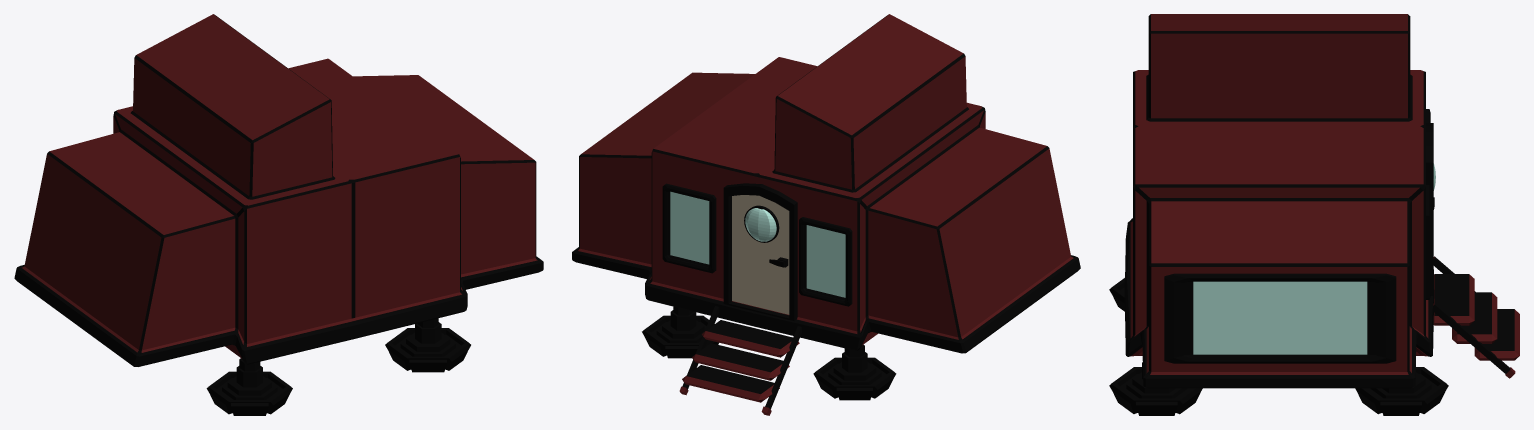
The model's file is House.fbx.
The picture shows the model from 3 angles, left to right: view 1: azimuth 30°, elevation 25°; view 2: azimuth 150°, elevation 25°; view 3: azimuth 270°, elevation 25°; orthographic projection. The views are drawn at different scales.
Parts seen in each view (by area): view 1: House; view 2: House; view 3: House.
Boxes of the visible parts, x1,y1,x2,y2 form: House: (14, 14, 543, 415); House: (572, 14, 1080, 415); House: (1109, 14, 1519, 415).
Size of the model in its own units: 1067 by 723 by 842.
